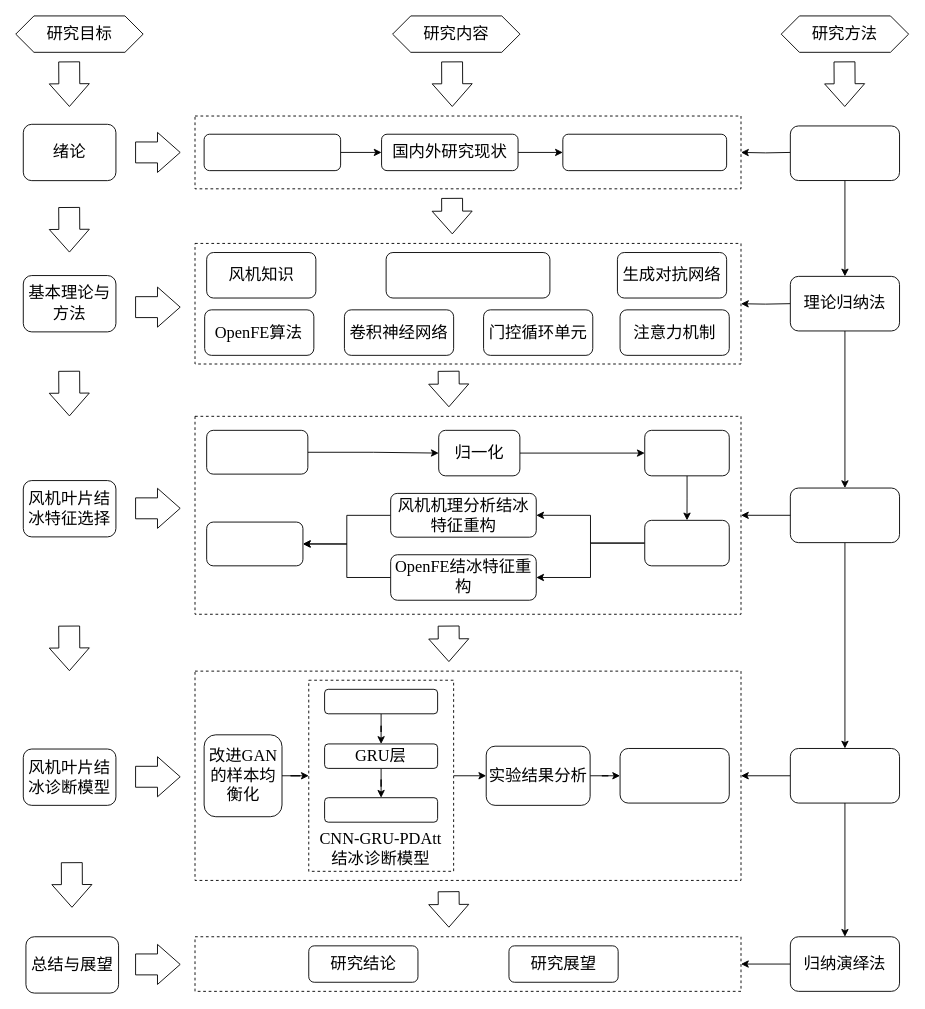
The diagram is 925 pixels wide and 1009 high, and some of its shapes have lost their labels. The centre of each missing label's shape, as x and y in pixels:
"A公司风机叶片维护建议" goes at (x=674, y=775).
"CNN 层" goes at (x=381, y=701).
"PDAtt 层" goes at (x=381, y=809).
"提出解决方案" goes at (x=644, y=152).
"数据分析法 特征工程法" goes at (x=844, y=515).
"文献研究法" goes at (x=844, y=153).
"深度学习方法 实验验证法" goes at (x=844, y=775).
"研究背景与意义" goes at (x=272, y=152).
"结冰危害及影响因素" goes at (x=467, y=275).
"结冰特征相关性分析" goes at (x=686, y=452).
"结冰特征重要性分析" goes at (x=686, y=542).
"选择的结冰特征" goes at (x=254, y=543).
"风机叶片结冰样本选取" goes at (x=257, y=451).
